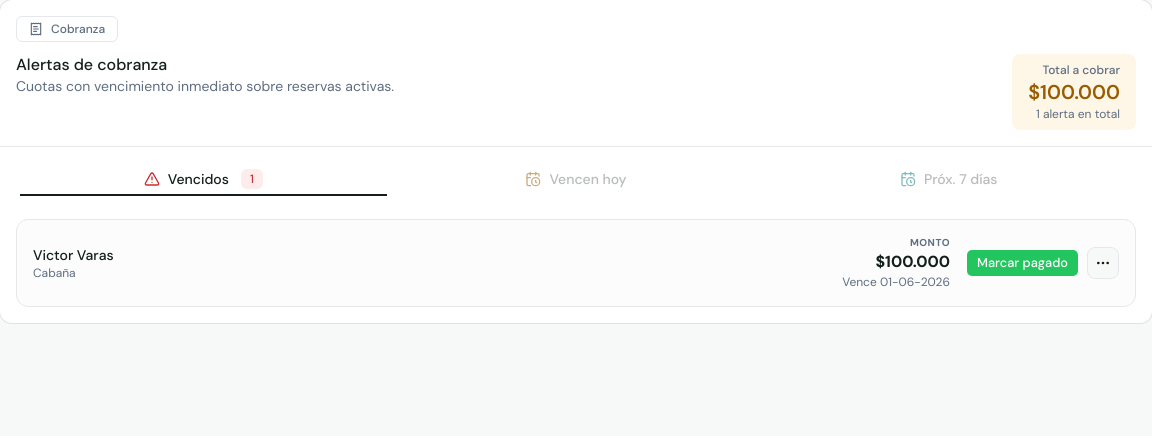
UrgentCollectionCard › muestra 'Copiar link vigente' solo cuando hay link activo
Click the button named "más acciones" at (1103, 263), box [1087,247,1119,279]
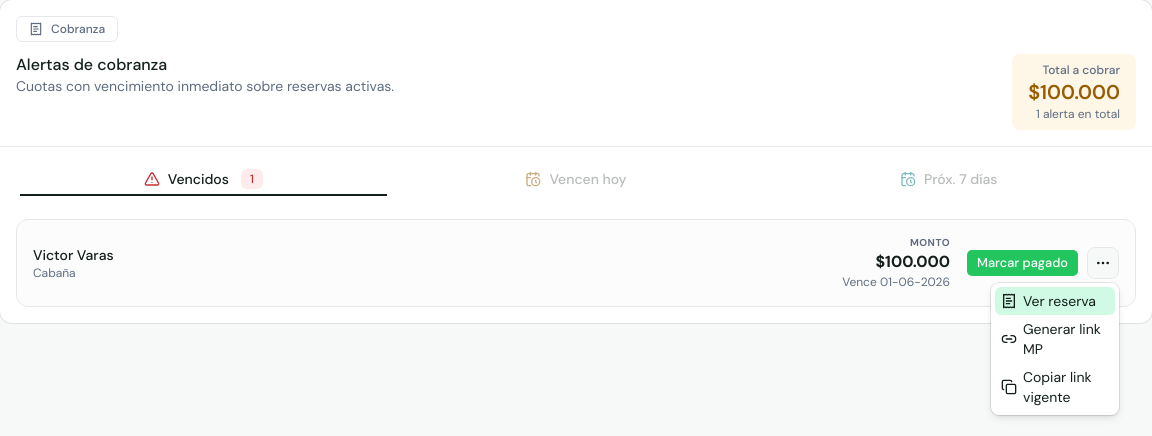
Result: the menu item "Copiar link vigente" is shown at [1001,368,1092,406]
